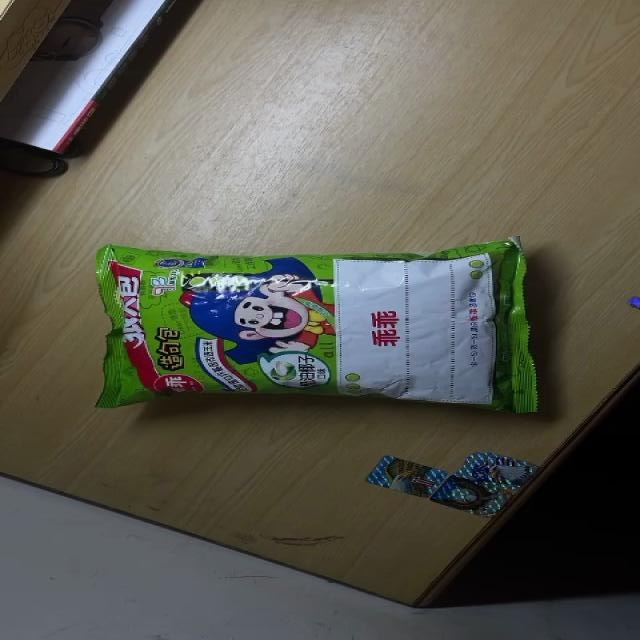Good-Luck: (94, 236, 540, 414)
